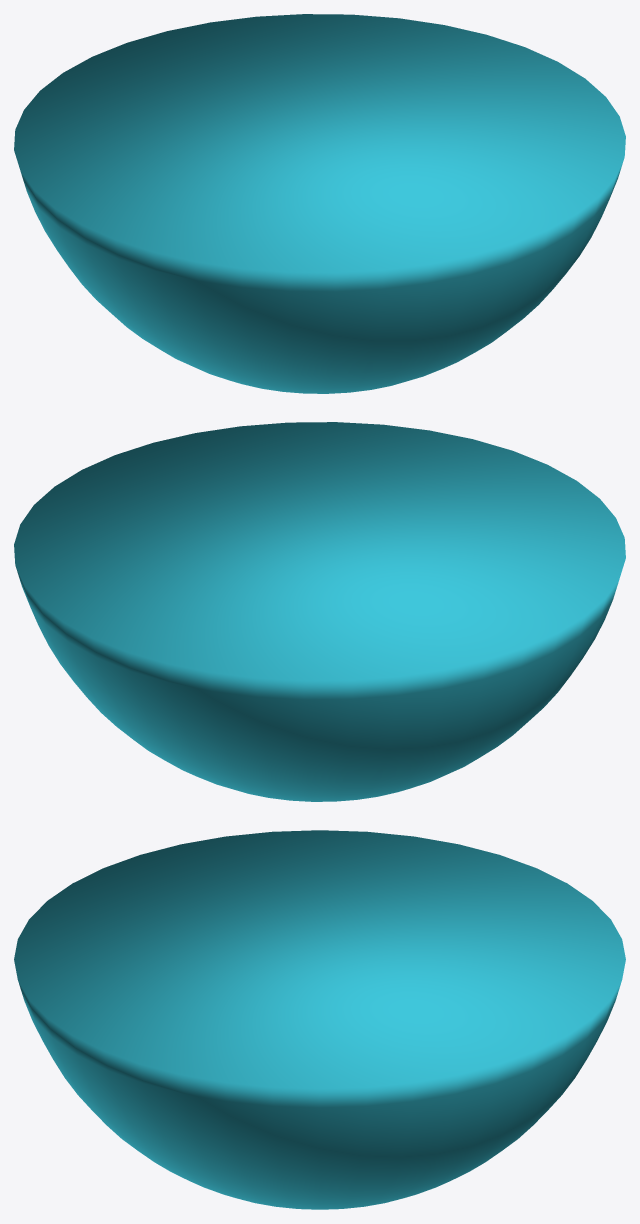
File: voda.fbx
3 views of the same model, one above another, from view 1: azimuth 30°, elevation 25°; view 2: azimuth 150°, elevation 25°; view 3: azimuth 270°, elevation 25° (orthographic).
Parts seen in each view (by area): view 1: bowl:pSphere1.001; view 2: bowl:pSphere1.001; view 3: bowl:pSphere1.001.
Boxes of the visible parts, x1,y1,x2,y2 form: bowl:pSphere1.001: (14,14,625,393); bowl:pSphere1.001: (14,422,625,801); bowl:pSphere1.001: (14,830,625,1209).
Size of the model in its own units: 36.86 by 14.37 by 36.86.
